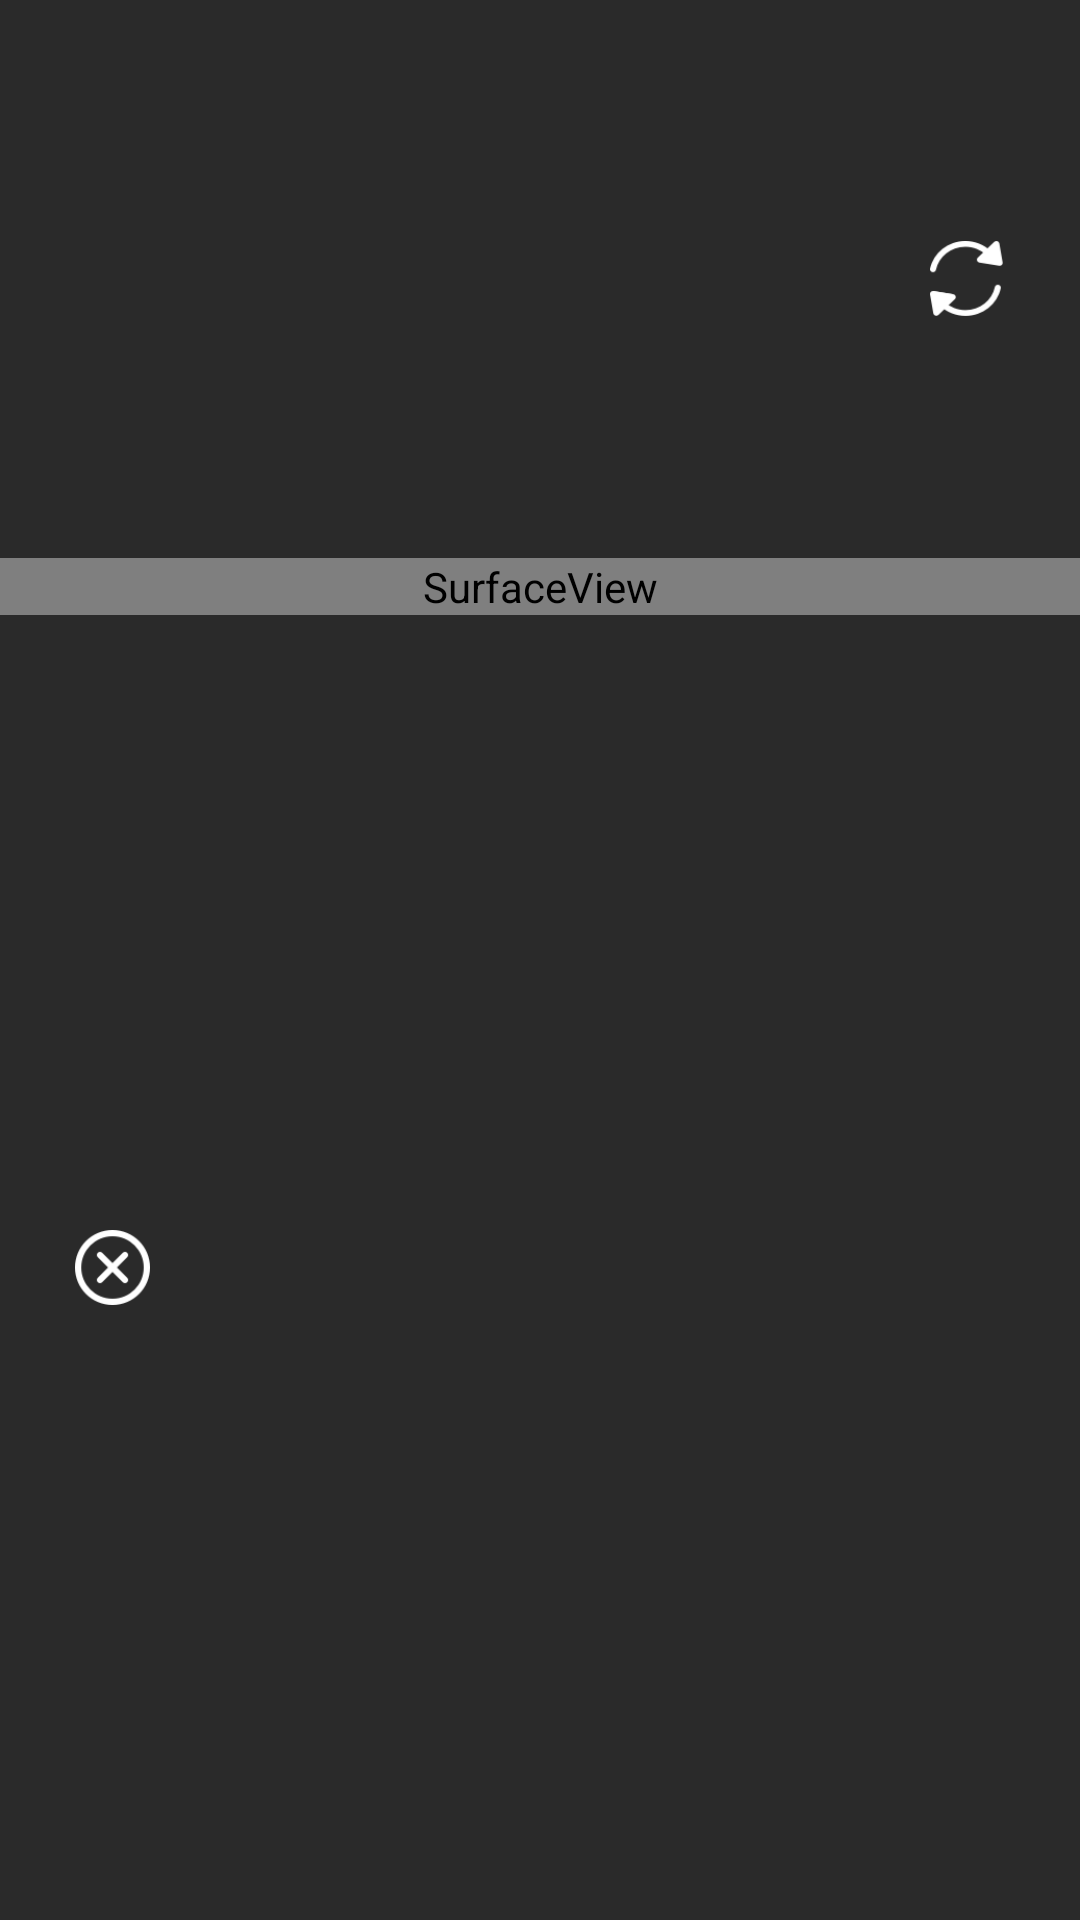

Icons on this 1080×1920 Android screen, each with the point to tap as (x=x, y=y):
camera cancel: (x=112, y=1267)
camera reverse: (x=966, y=278)
